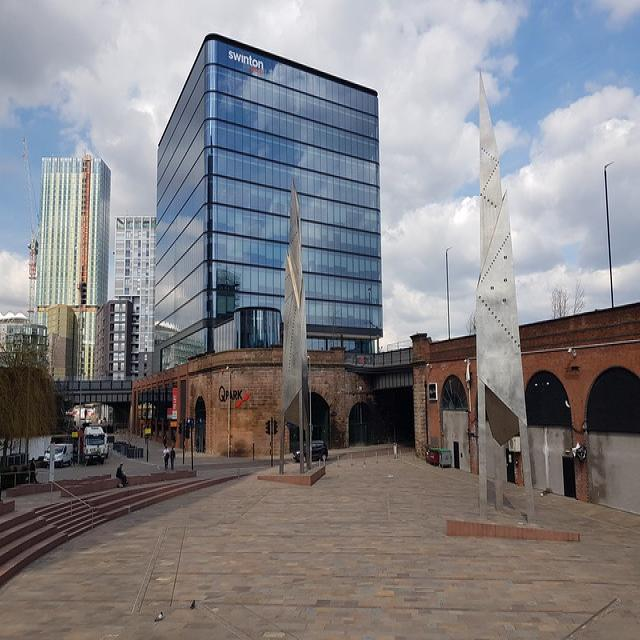building: (146, 29, 388, 392), (37, 150, 108, 375)
